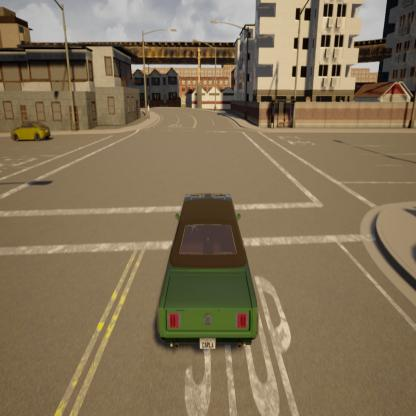Cars: (159, 194, 257, 350), (11, 122, 51, 140)
Pedestrian: (146, 101, 150, 118)
